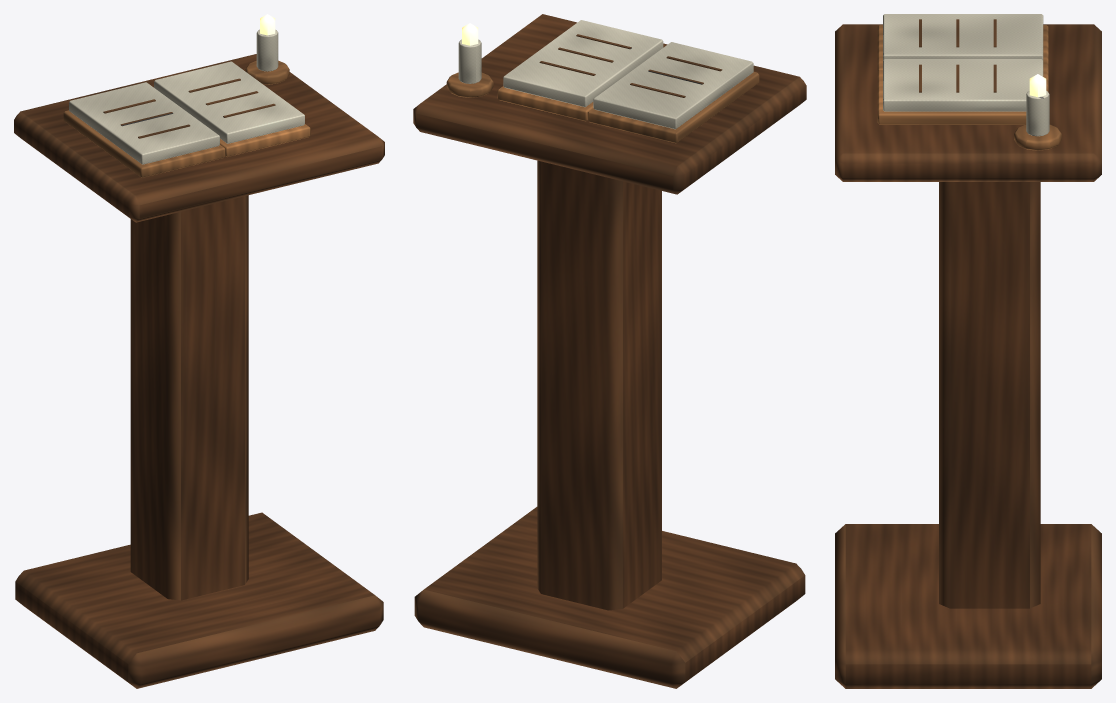
Rendered from Furn_MagicClub_Lectern.fbx.
3 renders of one model, left to right at view 1: azimuth 30°, elevation 25°; view 2: azimuth 150°, elevation 25°; view 3: azimuth 270°, elevation 25°, orthographic. The views are drawn at different scales.
Visible parts, largest first — view 1: Furn_MagicClub_Lectern; view 2: Furn_MagicClub_Lectern; view 3: Furn_MagicClub_Lectern.
Boxes of the visible parts, bbox=[...] form: Furn_MagicClub_Lectern: bbox=[14, 14, 384, 688]; Furn_MagicClub_Lectern: bbox=[413, 14, 806, 688]; Furn_MagicClub_Lectern: bbox=[835, 14, 1101, 688].
Bounding box in the file's own units: 0.6 × 1.25 × 0.5.
Materials: 4 (3 with a texture image).
